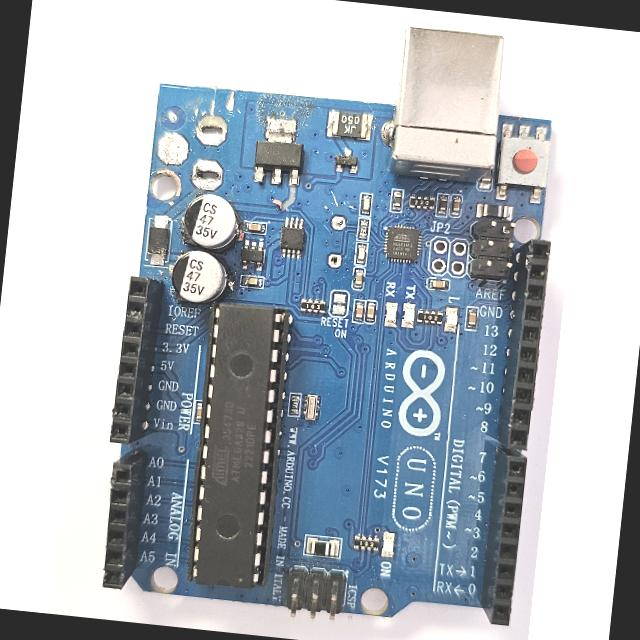missing_crystal_os: (315, 193, 357, 286)
